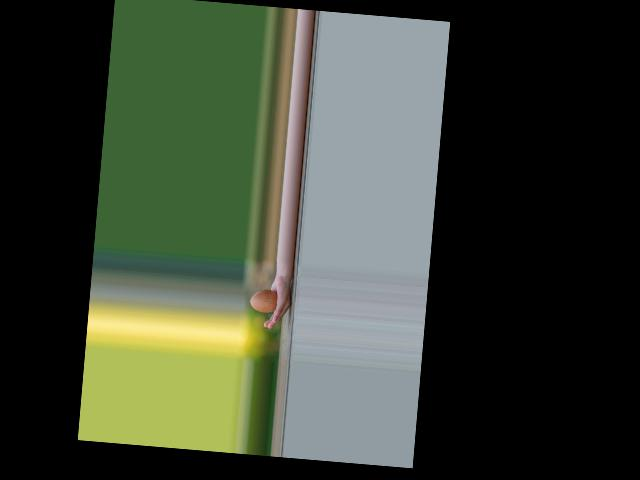egg: (249, 287, 278, 313)
